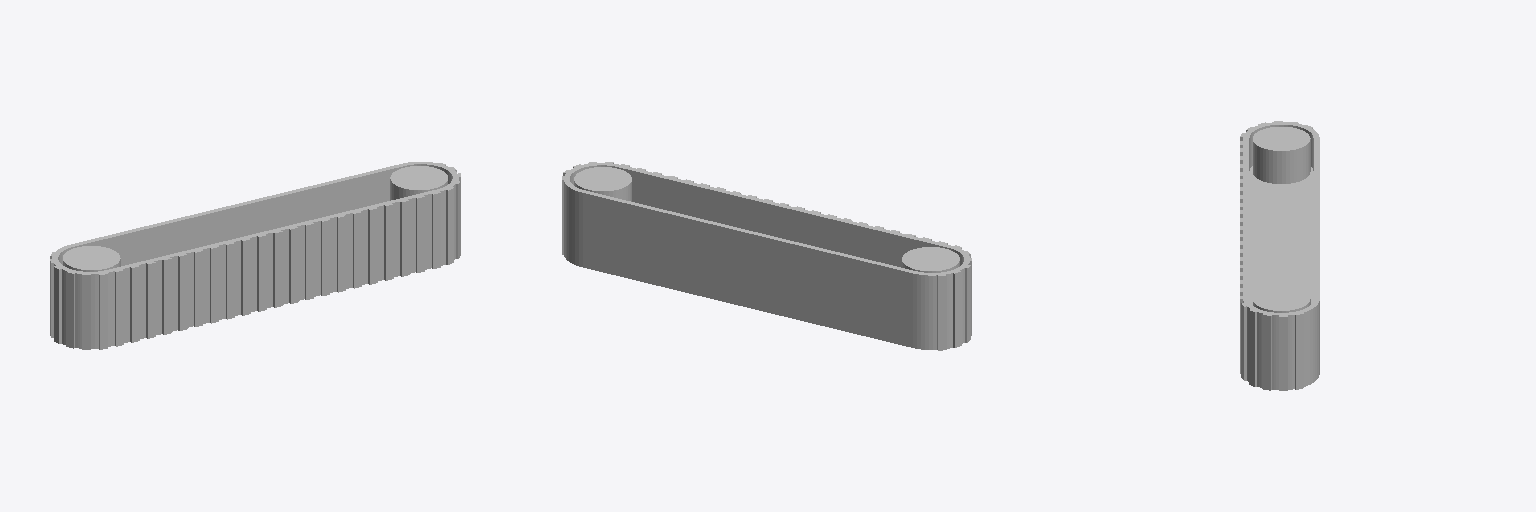
Rendered from TrackAnimation1.obj.
The picture shows the model from 3 angles: view 1: azimuth 30°, elevation 25°; view 2: azimuth 150°, elevation 25°; view 3: azimuth 270°, elevation 25°; orthographic projection.
Parts seen in each view (by area): view 1: Body1; view 2: Body1; view 3: Body1.
Part boxes in pixels (left/top/right/bottom): Body1: left=50, top=162, right=460, bottom=349; Body1: left=562, top=162, right=971, bottom=350; Body1: left=1240, top=121, right=1319, bottom=390.
Bounding box in the file's own units: 152 × 27 × 26.